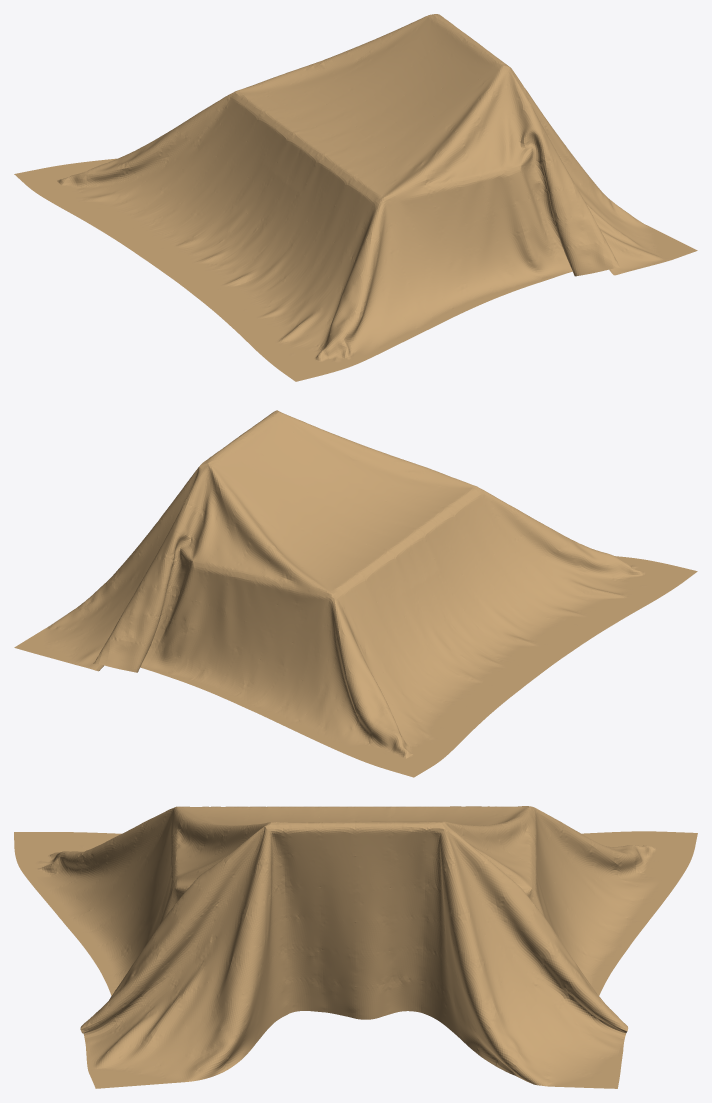
Rendered from level_4.glb.
The picture shows the model from 3 angles, top to bottom: view 1: azimuth 30°, elevation 25°; view 2: azimuth 150°, elevation 25°; view 3: azimuth 270°, elevation 25°; orthographic projection. The views are drawn at different scales.
Visible parts, largest first — view 1: world; view 2: world; view 3: world.
Part boxes in pixels (bbox=[...]): world: bbox=[14, 14, 697, 381]; world: bbox=[14, 410, 697, 777]; world: bbox=[14, 806, 697, 1088].
Size of the model in its own units: 0.5374 by 0.1905 by 0.6032.
